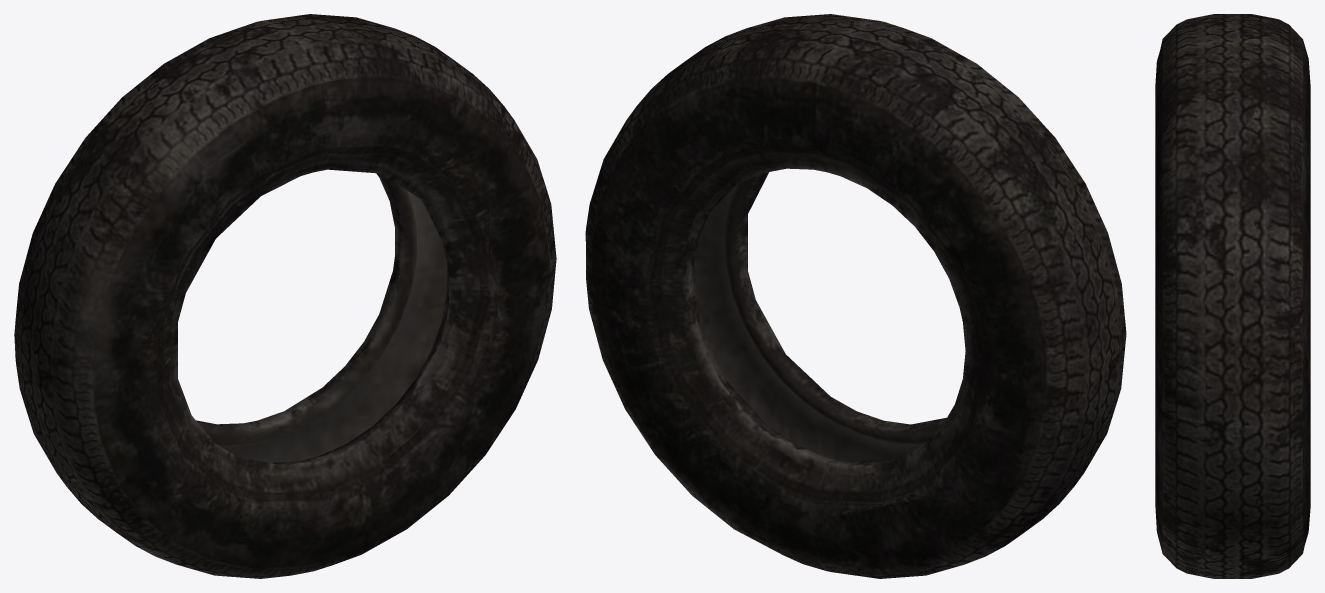
Rendered from old_tyre.glb.
3 renders of one model, left to right at view 1: azimuth 30°, elevation 25°; view 2: azimuth 150°, elevation 25°; view 3: azimuth 270°, elevation 25°, orthographic. The views are drawn at different scales.
Parts seen in each view (by area): view 1: old_tyre; view 2: old_tyre; view 3: old_tyre.
Boxes of the visible parts, <box> form: old_tyre: <box>14,14,556,578</box>; old_tyre: <box>585,14,1126,578</box>; old_tyre: <box>1155,14,1310,578</box>.
Size of the model in its own units: 0.6 by 0.6 by 0.165.
1 material, 1 textured.
